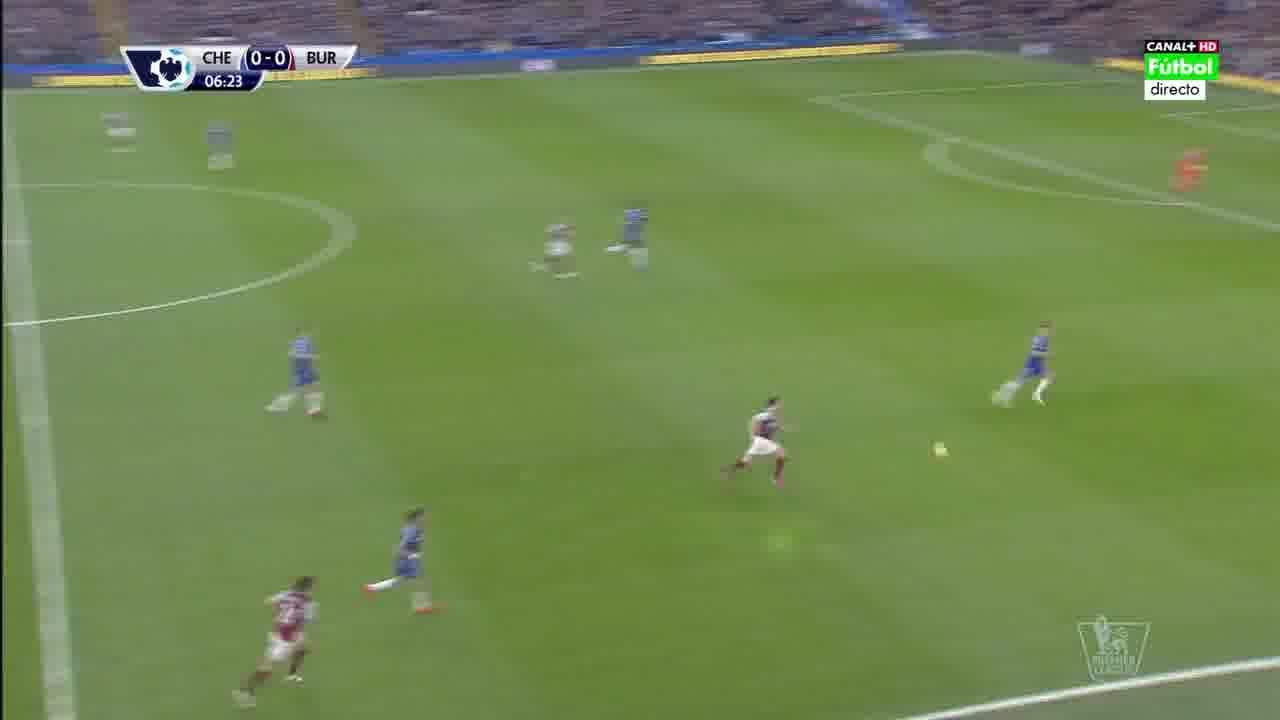football: (930, 442, 950, 463)
